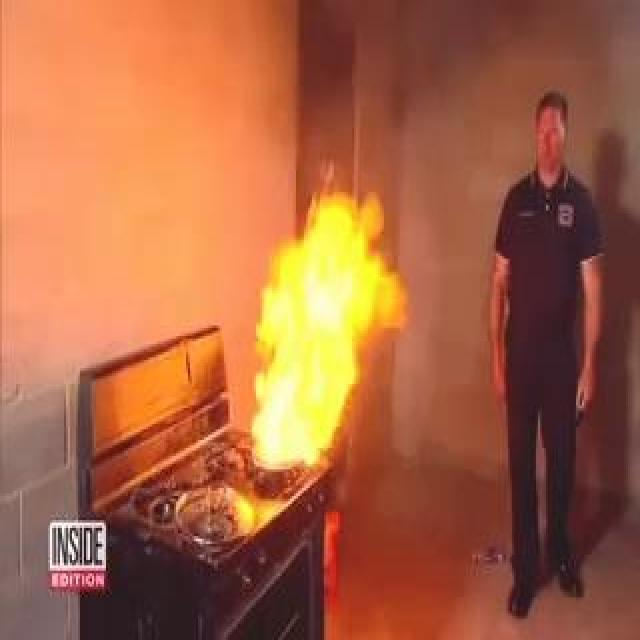Fire: (180, 298, 340, 344)
